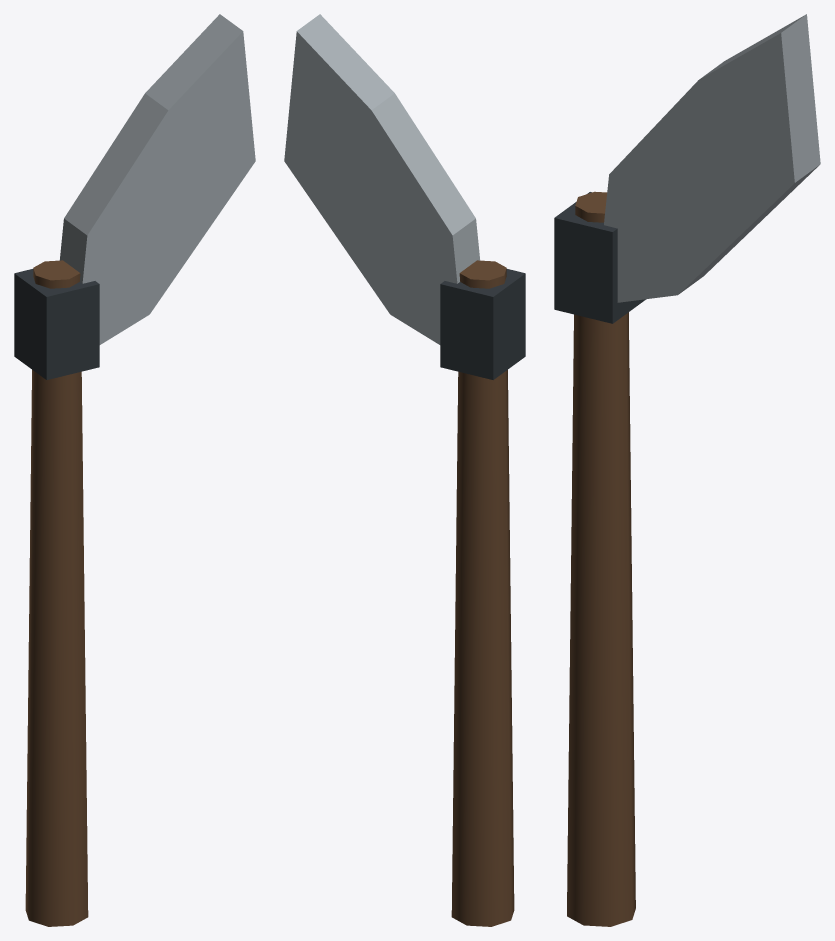
Rendered from glaive.glb.
3 views of the same model, side by side, from view 1: azimuth 30°, elevation 25°; view 2: azimuth 150°, elevation 25°; view 3: azimuth 330°, elevation 25° (orthographic). The views are drawn at different scales.
Visible parts, largest first — view 1: glaive-blade, glaive-pole, glaive-haft-socket; view 2: glaive-blade, glaive-pole, glaive-haft-socket; view 3: glaive-pole, glaive-blade, glaive-haft-socket.
Part boxes in pixels (x1,y1,x2,y2): glaive-blade: (59, 14, 255, 344); glaive-pole: (25, 260, 88, 926); glaive-haft-socket: (14, 269, 99, 379); glaive-blade: (284, 14, 480, 344); glaive-pole: (451, 260, 514, 926); glaive-haft-socket: (440, 269, 525, 379); glaive-pole: (567, 191, 635, 926); glaive-blade: (604, 14, 820, 302); glaive-haft-socket: (554, 192, 645, 323).
Size of the model in its own units: 0.345 by 1.3 by 0.09.
